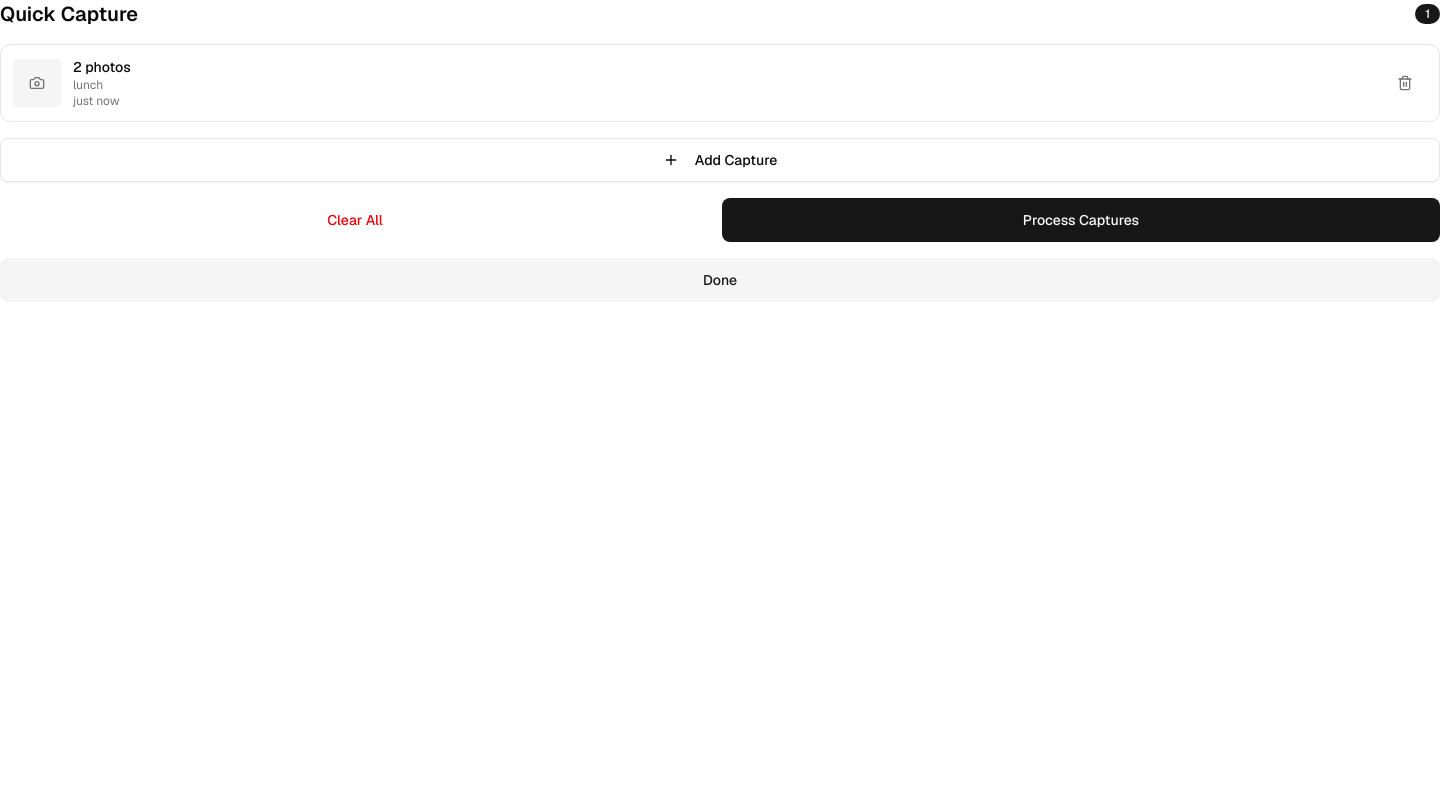
Test: QuickCapture › "Clear All" button shows AlertDialog confirmation
The width and height of the screenshot is (1440, 810).
What coordinates should you click on to do the following:
click the button "Clear All"
I would click on:
 (355, 220)
Its box is [0, 198, 710, 242].
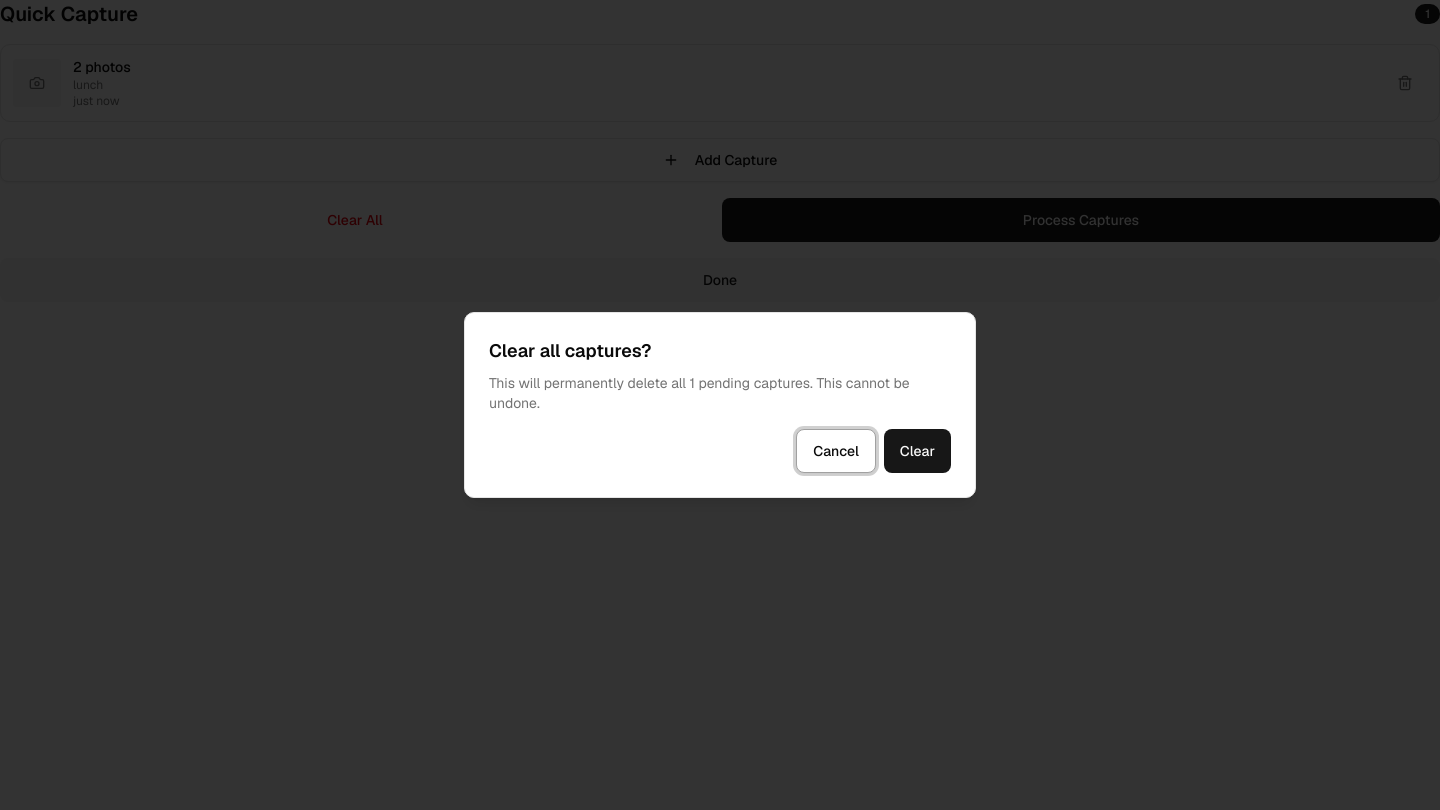
Now the dialog is shown, box [464, 312, 976, 498]
